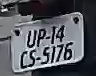1: (49, 23, 58, 45), (49, 45, 57, 64)
4: (55, 23, 68, 44)
6: (62, 42, 75, 61)
7: (55, 44, 64, 65)
C: (19, 50, 29, 69)
P: (36, 25, 47, 48)
S: (40, 46, 51, 66), (27, 49, 37, 66)
U: (24, 28, 38, 49)
